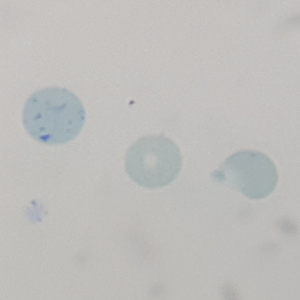erythrocyte: (21, 85, 88, 146), (209, 149, 280, 202), (122, 133, 184, 192)
